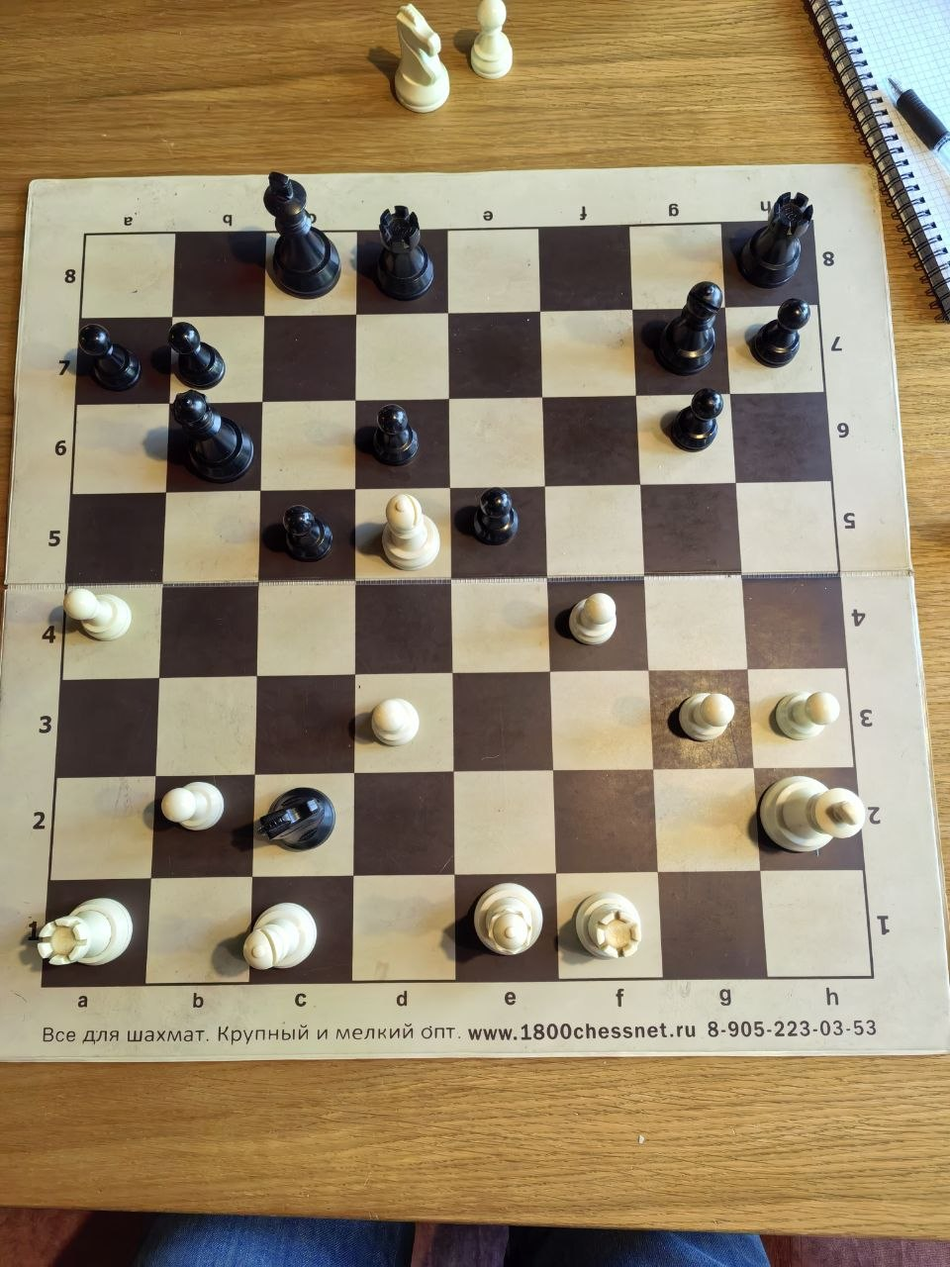black-bishop: (831, 950, 950, 1109)
black-king: (475, 1109, 594, 1267)
black-knight: (0, 1109, 119, 1267), (594, 1109, 712, 1267)
black-pawn: (356, 475, 475, 634), (238, 1109, 356, 1267)
black-rook: (119, 950, 238, 1109), (0, 634, 119, 792), (356, 792, 475, 950), (712, 792, 831, 950), (831, 792, 950, 950), (594, 634, 712, 792)
white-bishop: (238, 0, 356, 158)
white-king: (119, 317, 238, 475)
white-knight: (356, 0, 475, 158), (831, 0, 950, 158)
white-pawn: (712, 158, 831, 317)
white-queen: (238, 950, 356, 1109)
white-rook: (0, 158, 119, 317), (119, 158, 238, 317), (831, 158, 950, 317), (475, 475, 594, 634), (356, 317, 475, 475), (712, 317, 831, 475), (238, 475, 356, 634)
